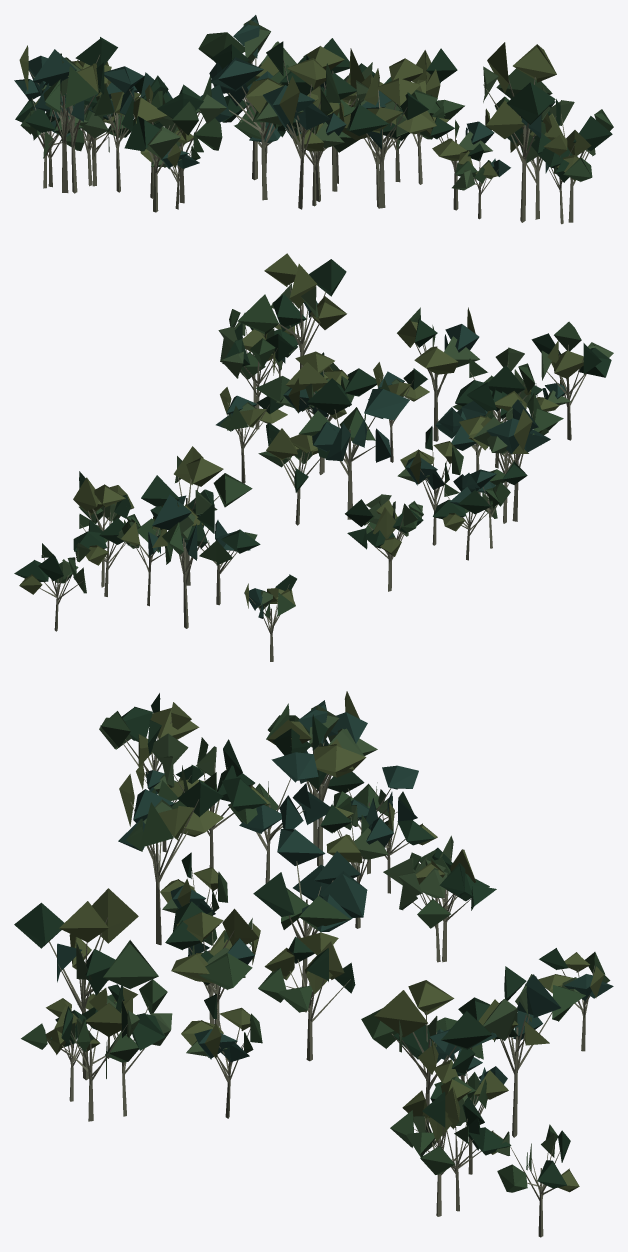
Rendered from forest_21_24.dae.
3 views of the same model, one above another, from view 1: azimuth 30°, elevation 25°; view 2: azimuth 150°, elevation 25°; view 3: azimuth 270°, elevation 25° (orthographic). The views are drawn at different scales.
Visible parts, largest first — view 1: Node; view 2: Node; view 3: Node.
Boxes of the visible parts, x1,y1,x2,y2 form: Node: (14, 15, 613, 224); Node: (14, 253, 613, 661); Node: (14, 691, 613, 1237).
Size of the model in its own units: 11.59 by 11.41 by 6.83.
